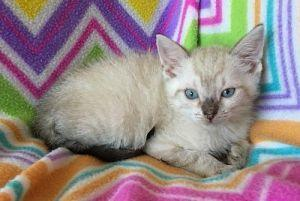siamese: (151, 18, 270, 135)
